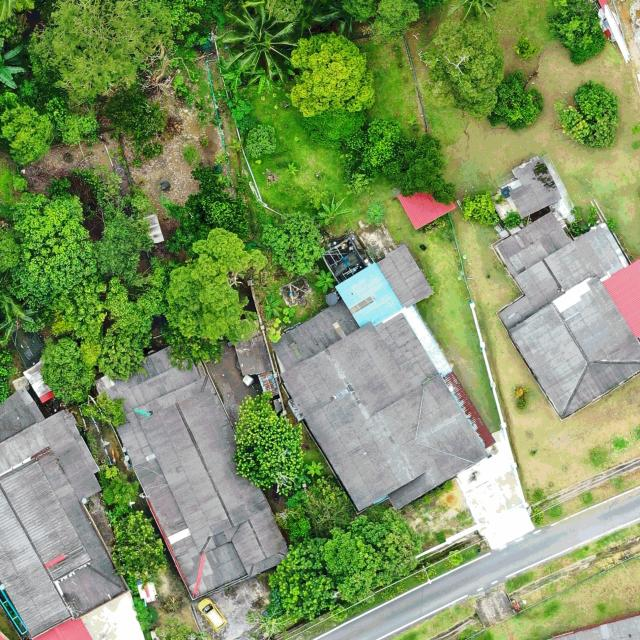Tree: (29, 0, 180, 108), (165, 226, 269, 345), (51, 274, 165, 378), (8, 190, 97, 311), (419, 21, 503, 120), (232, 390, 307, 492), (286, 30, 377, 113), (222, 2, 301, 88), (347, 506, 423, 589), (341, 119, 418, 197), (382, 132, 457, 207), (277, 478, 353, 544), (274, 536, 335, 614), (555, 79, 621, 151), (110, 510, 170, 586), (323, 525, 382, 602), (262, 208, 327, 276), (547, 0, 606, 66), (340, 0, 421, 46), (0, 100, 56, 165), (41, 337, 95, 403), (494, 70, 544, 132), (98, 466, 141, 526), (80, 389, 128, 429), (151, 617, 225, 640), (0, 35, 28, 95), (315, 190, 353, 233), (459, 190, 500, 228), (242, 122, 277, 162), (444, 0, 502, 23), (0, 302, 13, 367), (514, 36, 538, 60), (262, 294, 283, 318), (367, 202, 387, 226), (316, 270, 336, 293)
